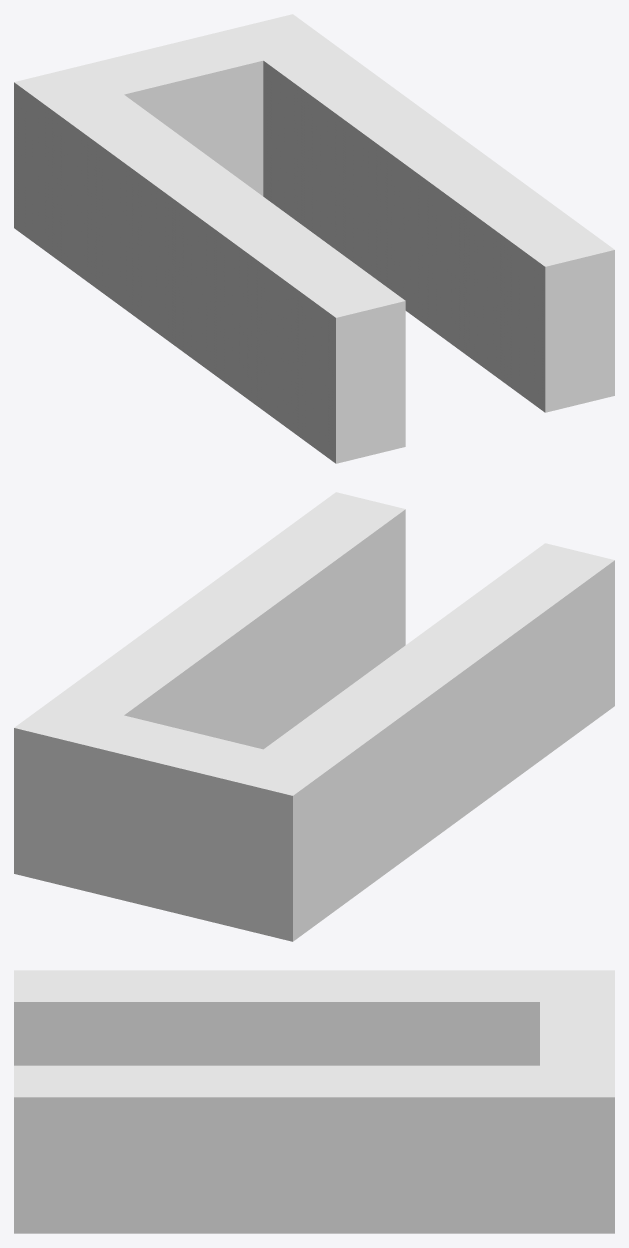
The model's file is stipite_2x7.gltf.
3 renders of one model, top to bottom at view 1: azimuth 30°, elevation 25°; view 2: azimuth 150°, elevation 25°; view 3: azimuth 270°, elevation 25°, orthographic. The views are drawn at different scales.
Parts seen in each view (by area): view 1: Layer.1; view 2: Layer.1; view 3: Layer.1.
Part boxes in pixels (left/top/right/bottom): Layer.1: left=14, top=14, right=614, bottom=463; Layer.1: left=14, top=492, right=614, bottom=941; Layer.1: left=14, top=970, right=614, bottom=1233.
Bounding box in the file's own units: 4 × 2 × 8.
1 material, 1 textured.
